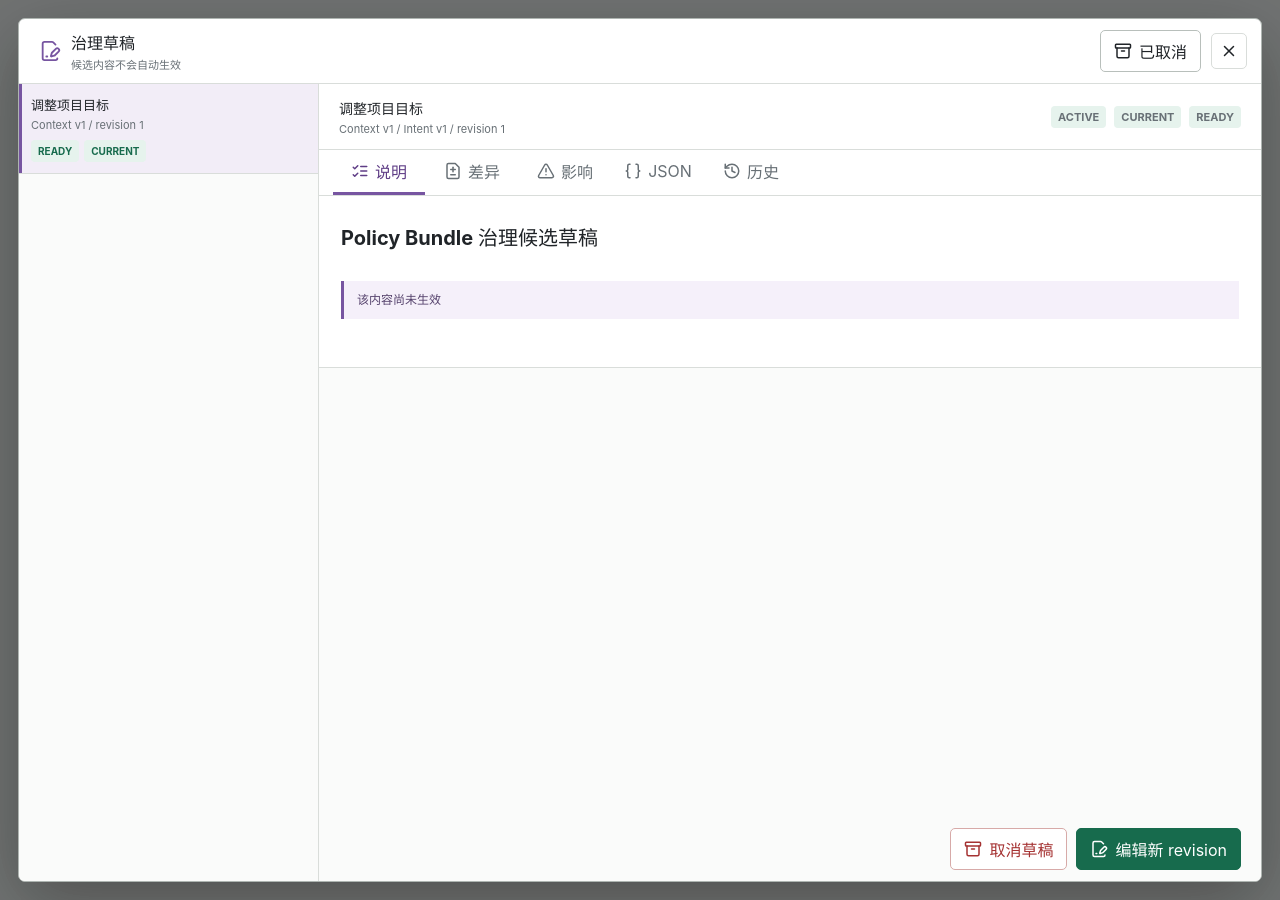
PolicyDraftWorkspace › saves a new full revision with optimistic concurrency
Click the button "编辑新 revision". click: x=1159, y=849
box: [1076,828,1241,870]
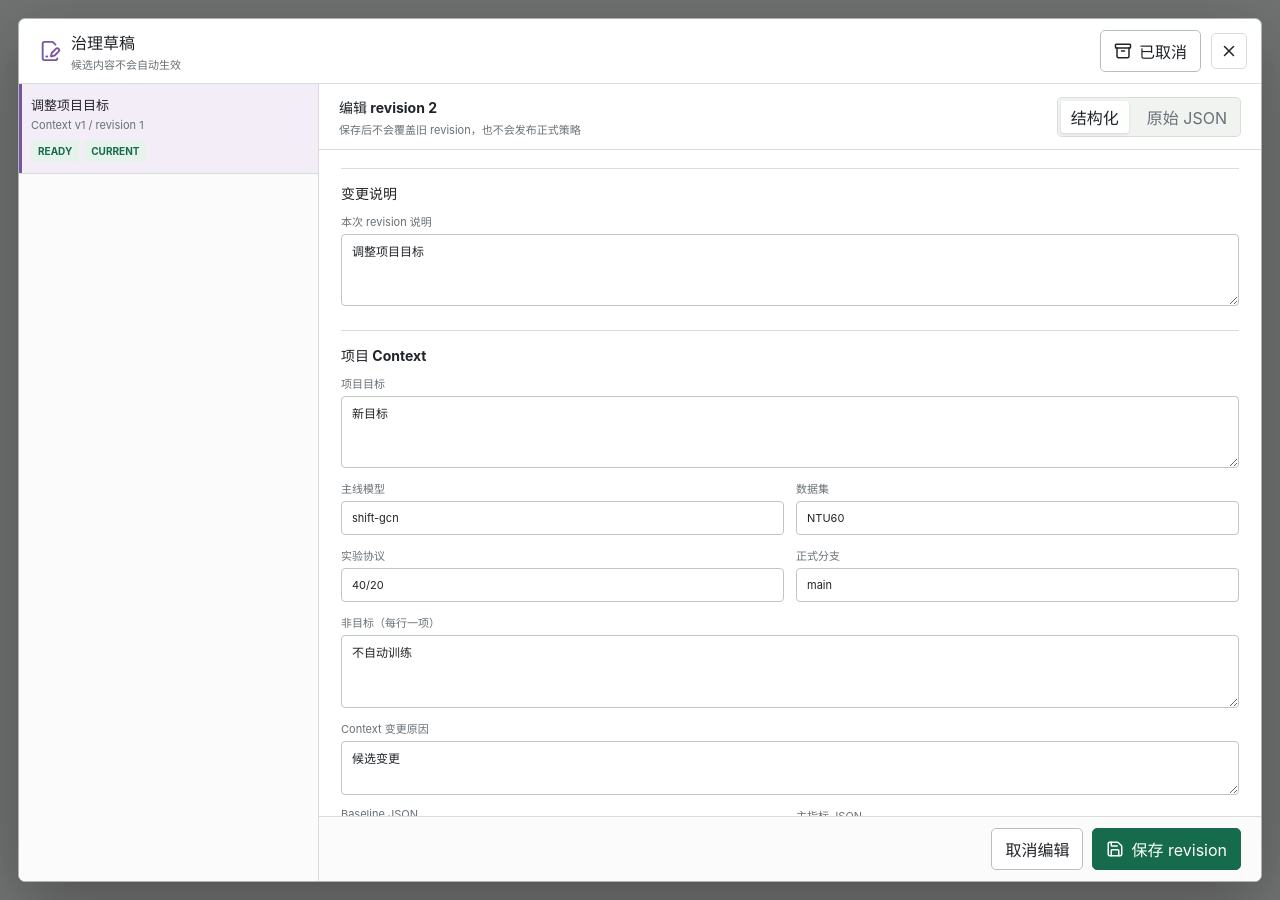
Replace the text in the text box labelled "项目目标" with "再次调整目标". click: x=790, y=432
box: [341,396,1239,468]
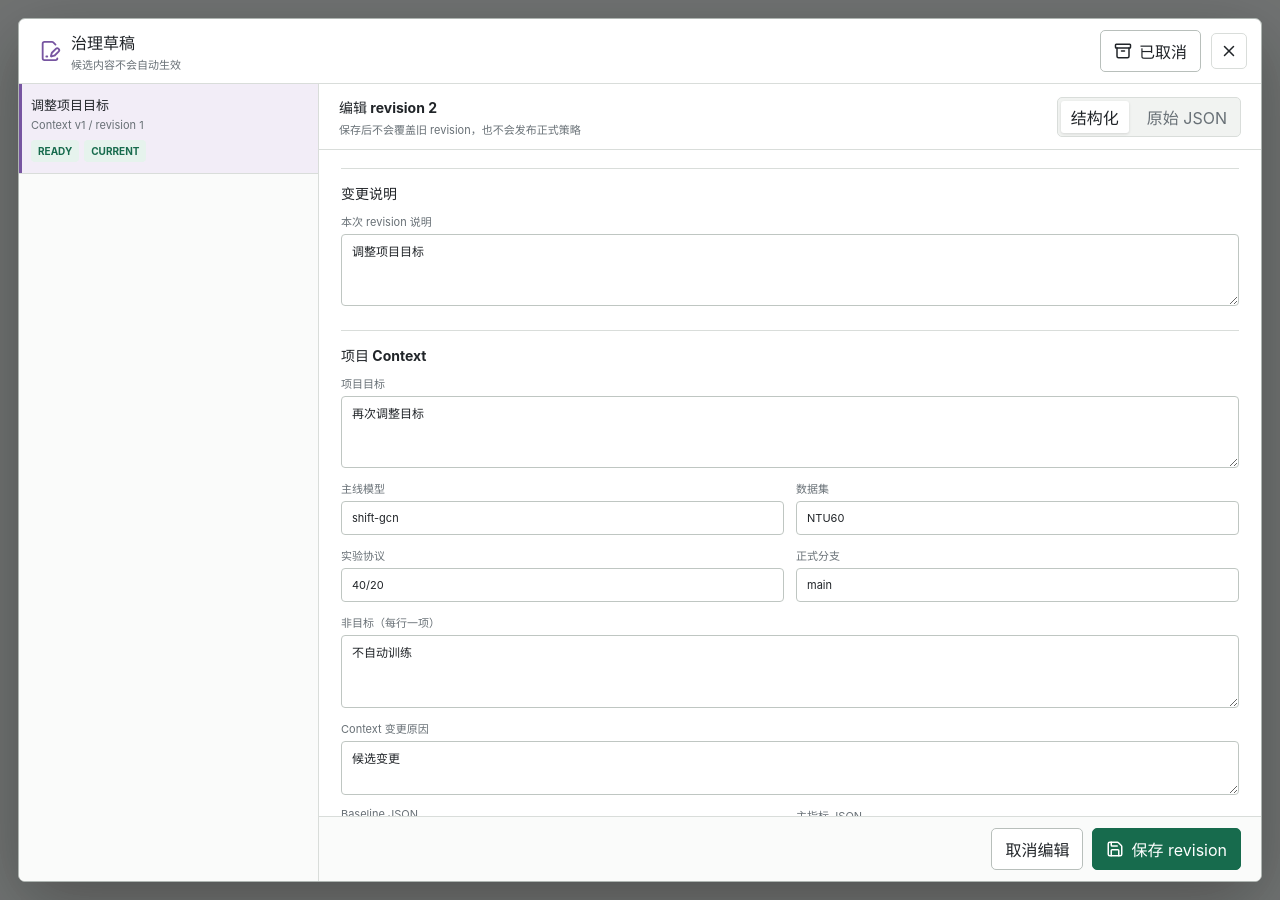
Replace the text in the text box labelled "本次 revision 说明" with "Owner 修订". click: x=790, y=270
box: [341,234,1239,306]
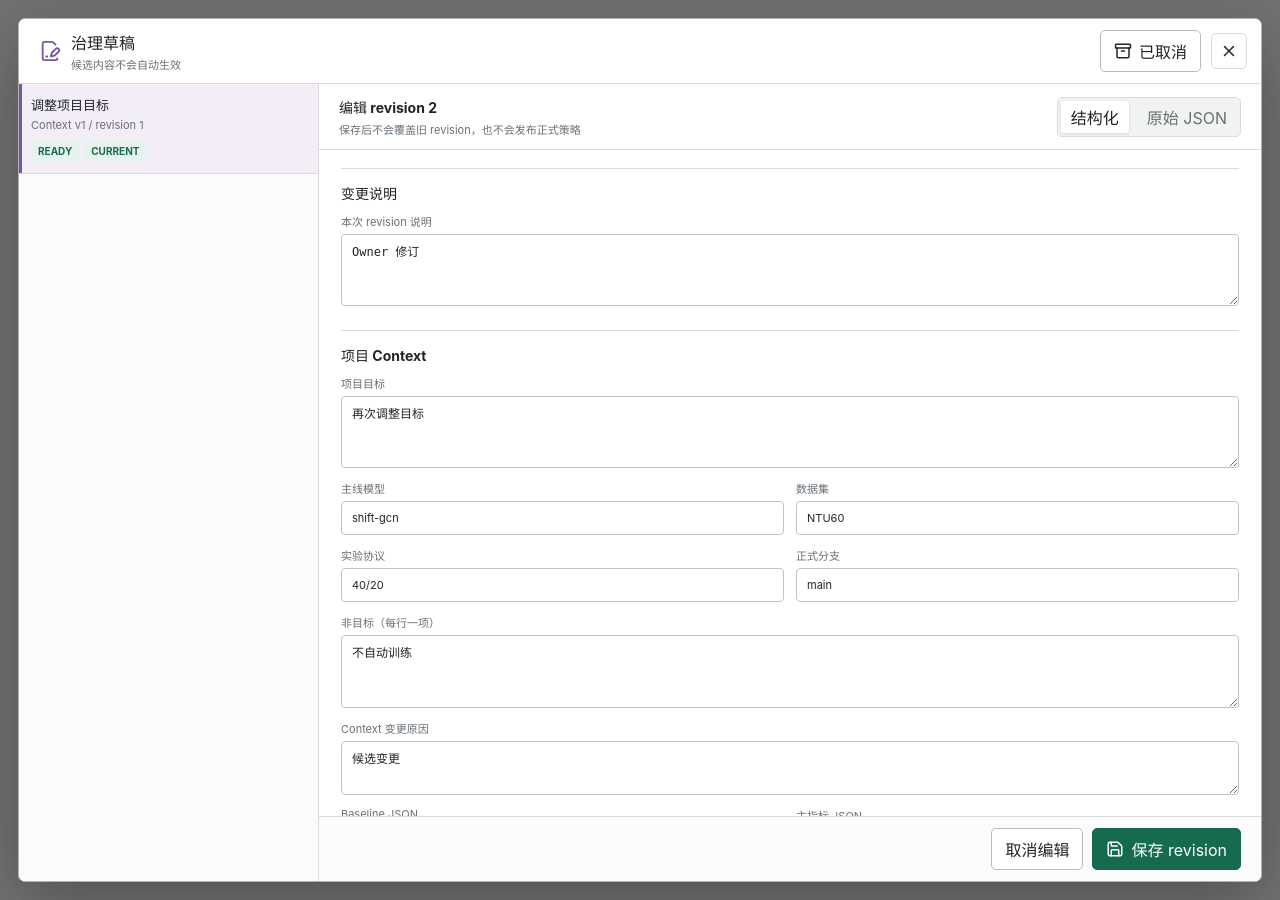
Click the button "保存 revision". click: x=1167, y=849
box: [1092,828,1241,870]
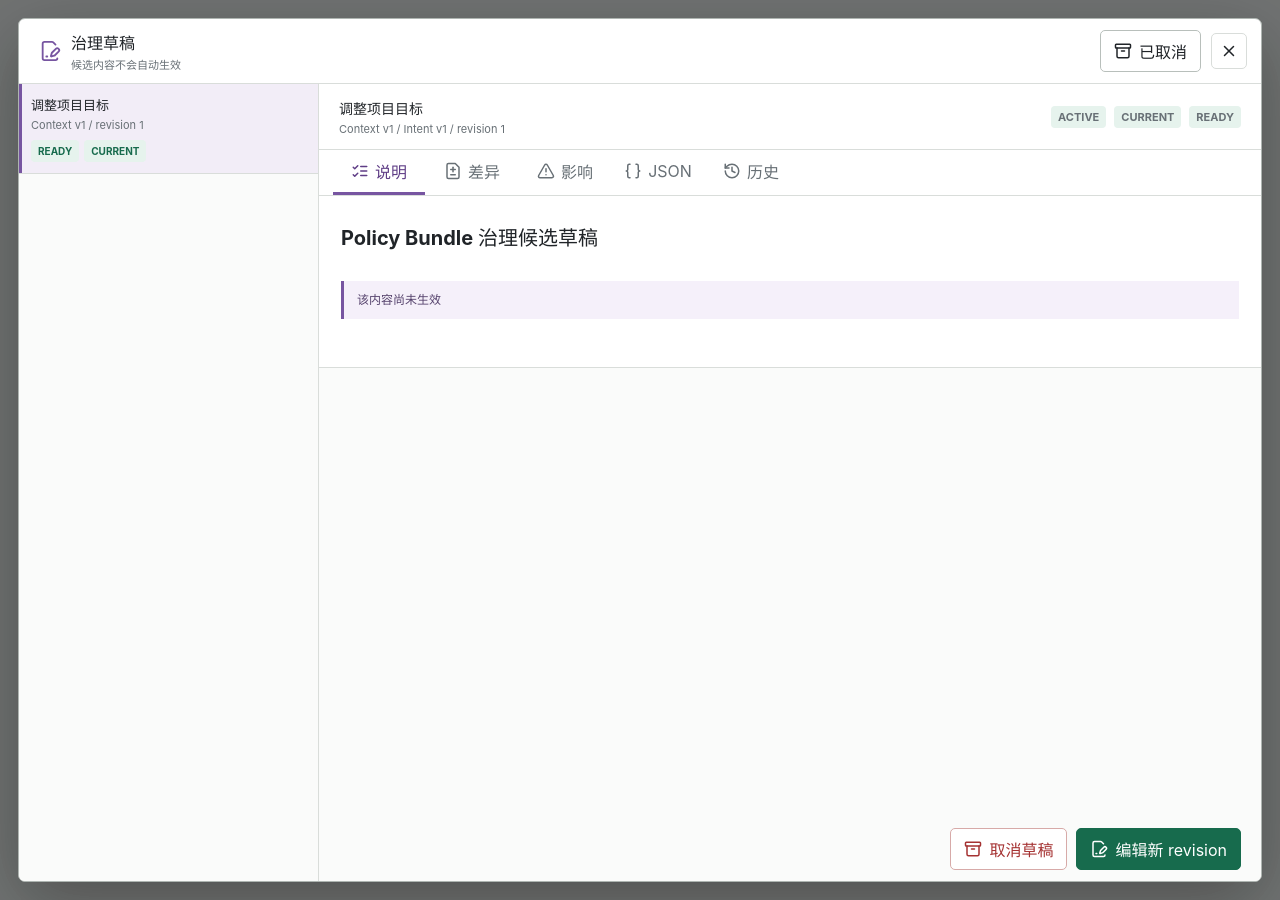
Now the button "编辑新 revision" is shown, box [1076,828,1241,870]
